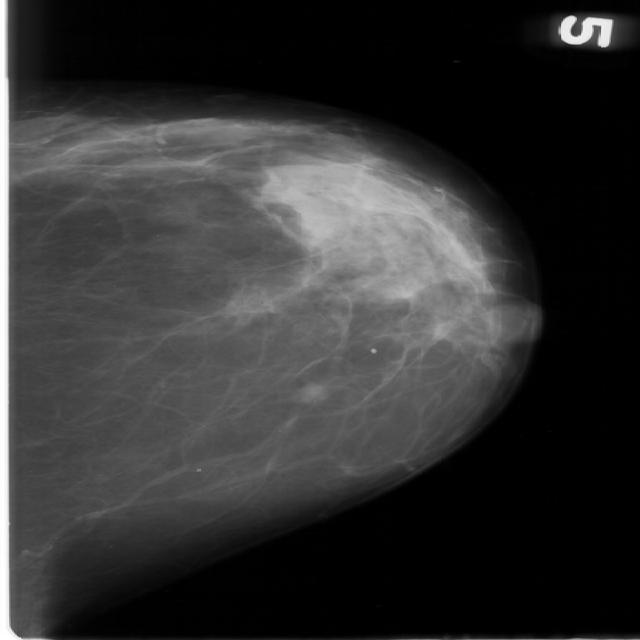tumour: (297, 382, 326, 403)
